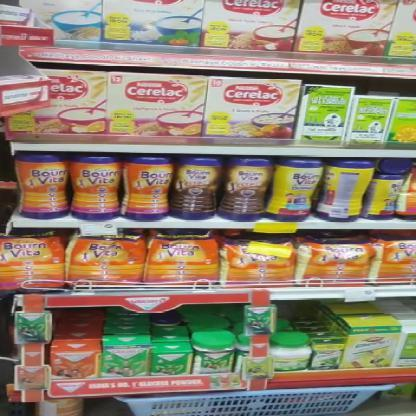Glucon D Regular 1-KG: (101, 344, 150, 380), (152, 349, 194, 373)
Glucon D Regular 2-KG: (193, 333, 235, 374)
Glucon D Tangy orange 1-KG: (48, 347, 100, 380)
